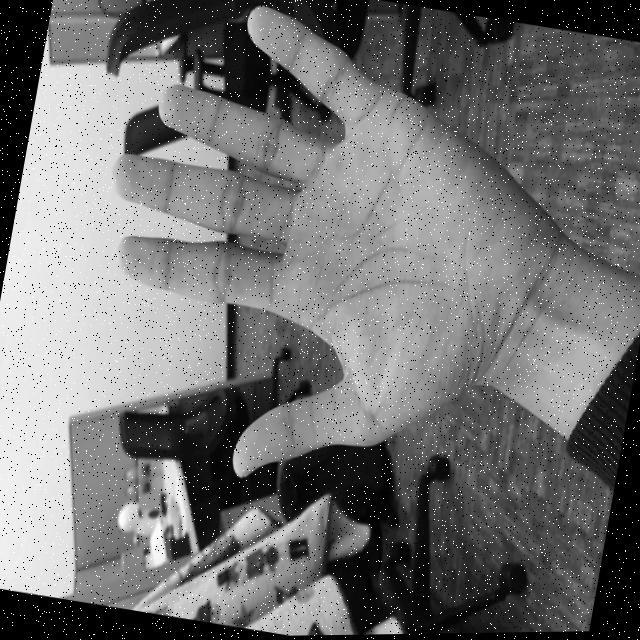no-gloves: (57, 0, 591, 530)
